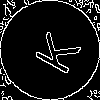K: (25, 25, 81, 77)
